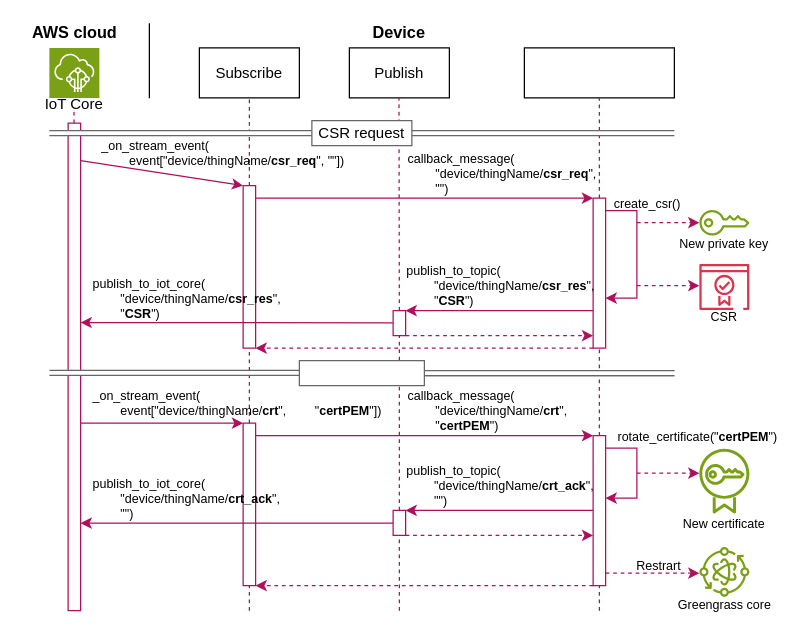
This 799x634 diagram has some shape labels left out. The centre of each missing label's shape, as x and y in pixels:
"Certificate rotation" goes at [361,372].
"CertificateRotator" goes at [598,72].
